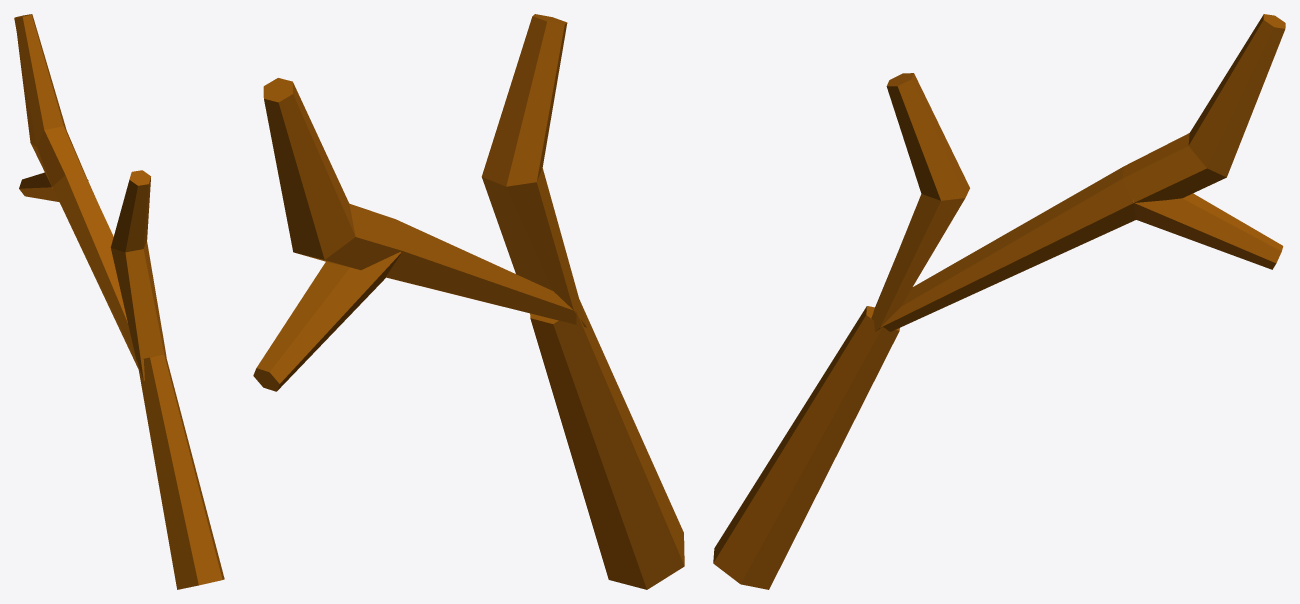
Rendered from dal.fbx.
The picture shows the model from 3 angles, left to right: view 1: azimuth 30°, elevation 25°; view 2: azimuth 150°, elevation 25°; view 3: azimuth 270°, elevation 25°; orthographic projection. The views are drawn at different scales.
Visible parts, largest first — view 1: Plane; view 2: Plane; view 3: Plane.
Boxes of the visible parts, left/top/right/bottom form: Plane: left=14, top=14, right=224, bottom=589; Plane: left=253, top=14, right=684, bottom=589; Plane: left=713, top=14, right=1285, bottom=589.
Size of the model in its own units: 32.13 by 212 by 190.
